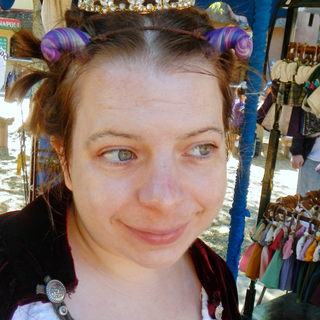eye: (91, 141, 141, 169), (178, 139, 221, 163)
